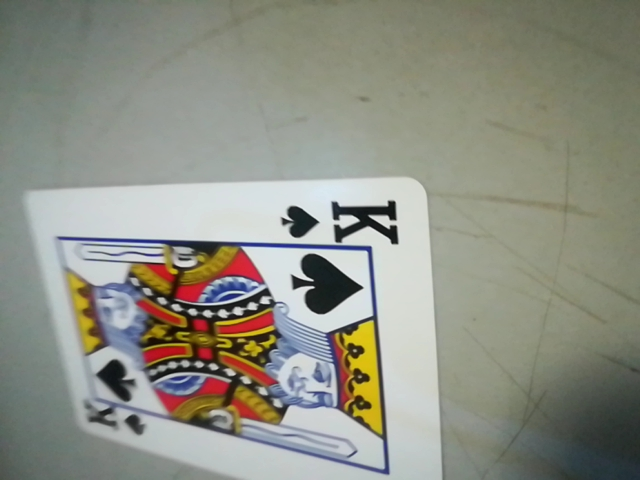ht k: (280, 188, 407, 251)
